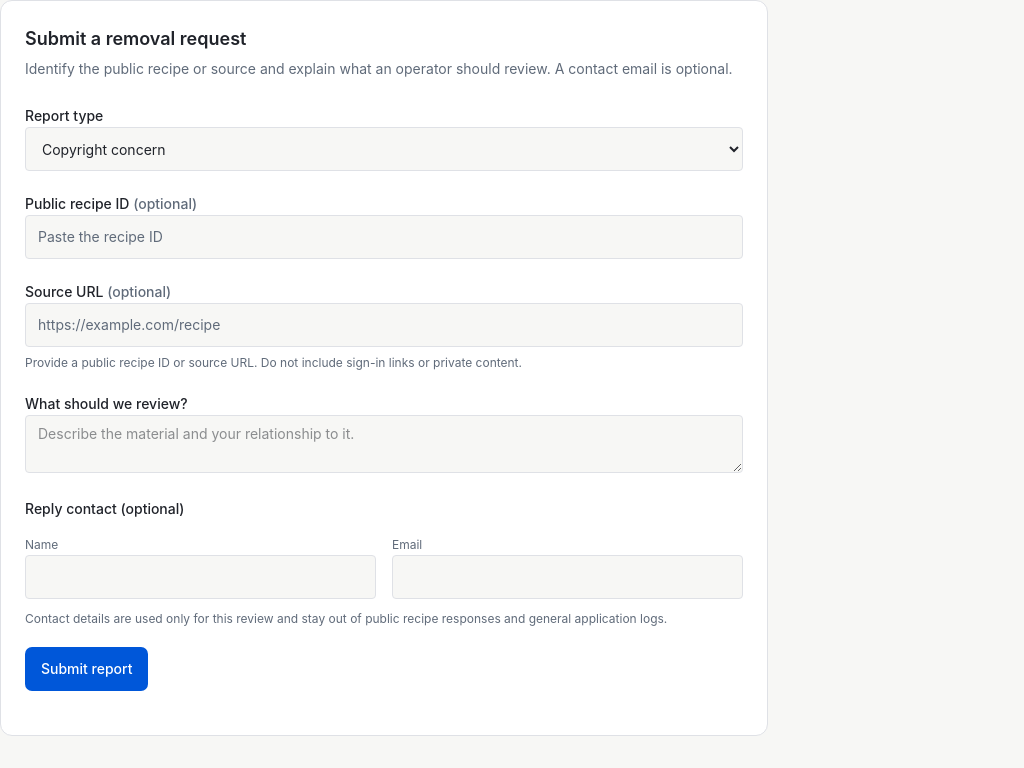
Test case: ComplaintForm › shows the server validation message when submission fails
Type "A concern." into the text box labelled "What should we review?" at (384, 444), box [25, 415, 743, 473]
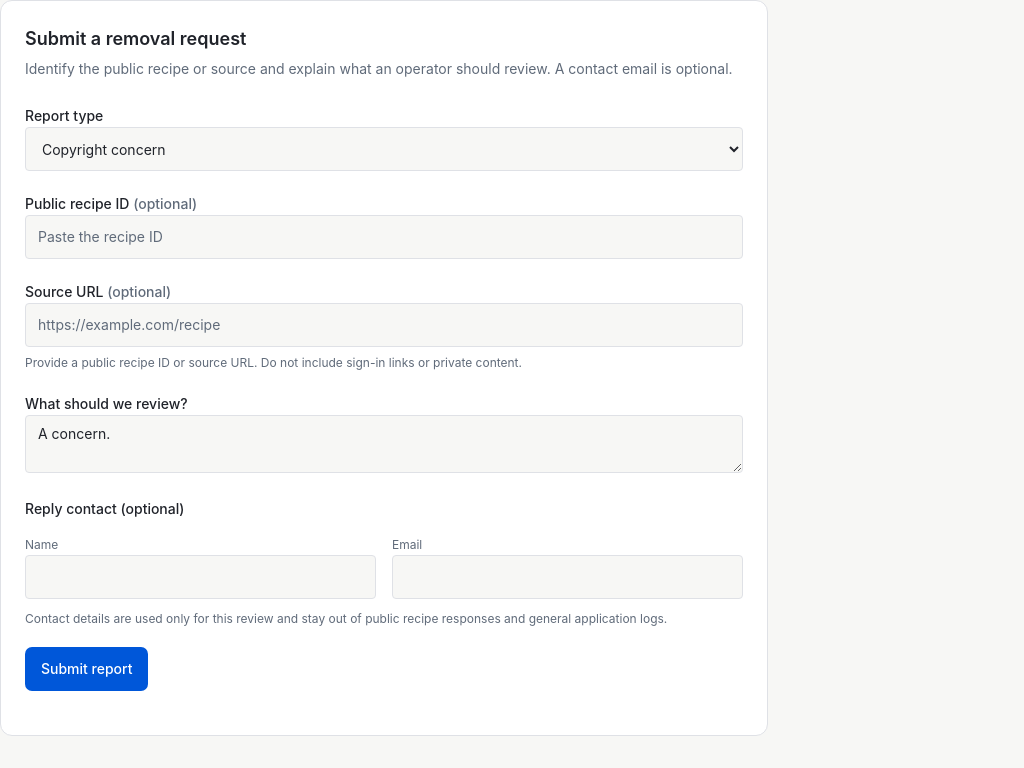
Submit the form from the button "Submit report", box [25, 647, 148, 691]
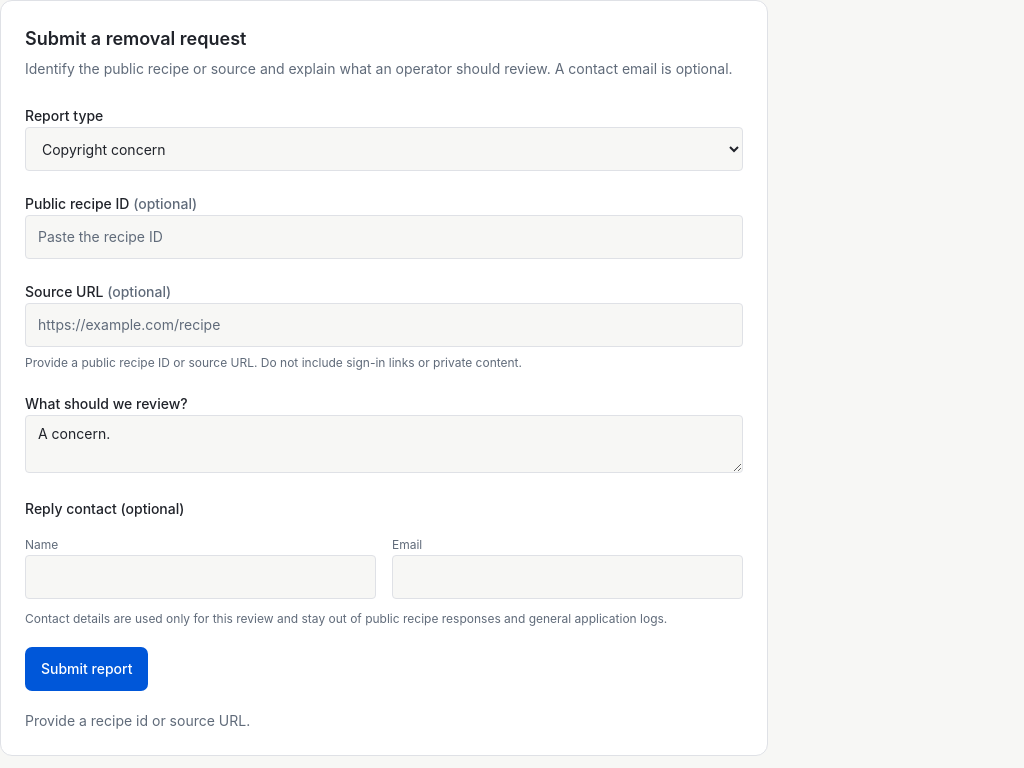
Now the text "Provide a recipe id or source URL." is shown, box [25, 712, 250, 729]
